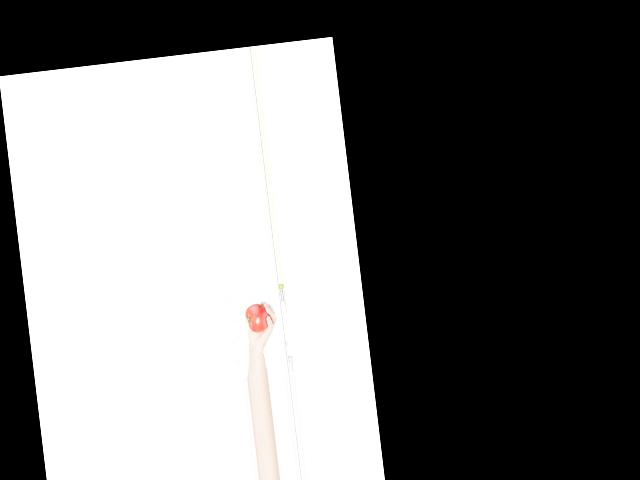tomato: (244, 302, 271, 334)
